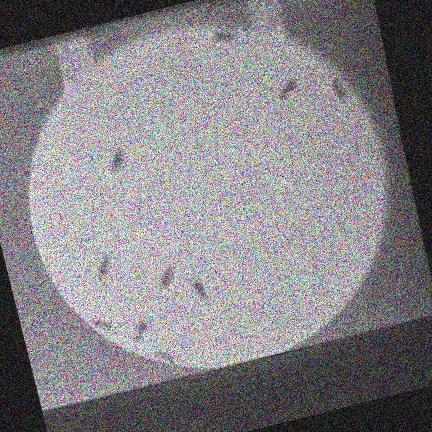fly: (278, 80, 296, 102), (332, 79, 348, 103), (159, 267, 174, 291), (111, 148, 125, 173), (192, 277, 207, 300), (133, 320, 147, 344), (98, 256, 111, 281), (155, 351, 177, 364), (215, 31, 236, 42), (94, 319, 112, 331)
